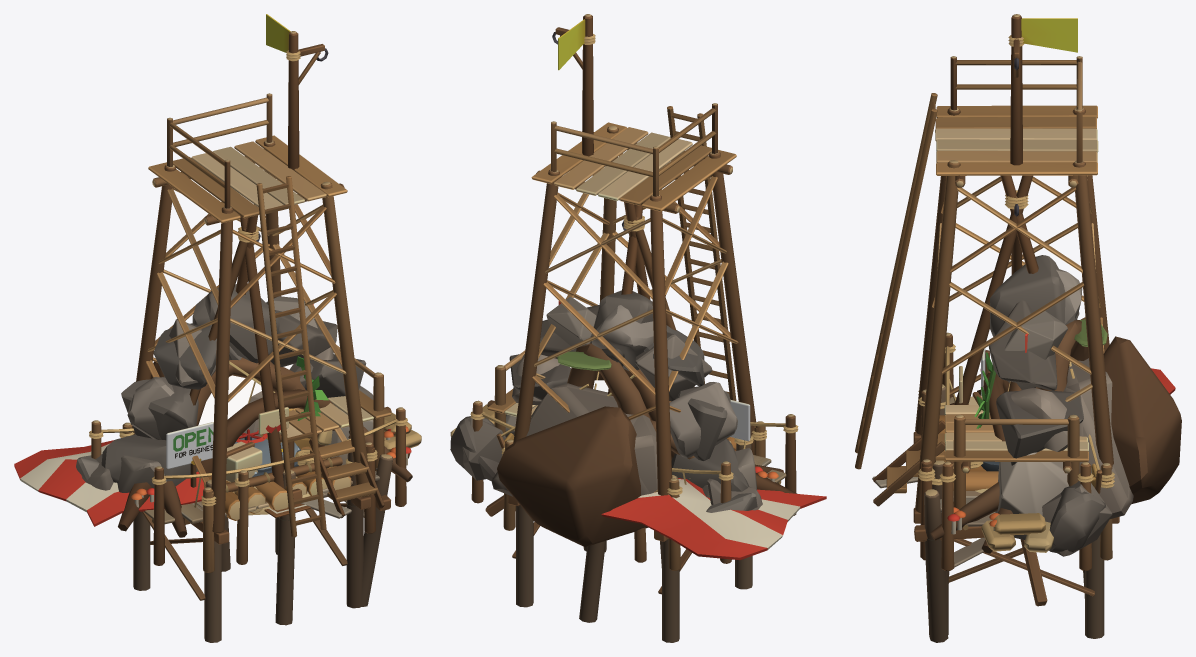
The model's file is traversal.glb.
3 views of the same model, side by side, from view 1: azimuth 30°, elevation 25°; view 2: azimuth 150°, elevation 25°; view 3: azimuth 270°, elevation 25° (orthographic). The views are drawn at different scales.
Parts seen in each view (by area): view 1: zip_tower__matte, portal_cave_dark__matte, zip_end__matte, dock_a__matte, portal_cave__matte, supply_gondola__matte, portal_roots__matte, raft__matte, bridge__matte, hatch__matte, dock_piles__matte, dock_broken__matte (+5 smaller); view 2: zip_tower__matte, portal_roots__matte, portal_cave__matte, portal_cave_dark__matte, supply_gondola__matte, dock_a__matte, zip_end__matte, bridge__matte, dock_piles__matte, boardwalk_b__matte, hatch__matte; view 3: zip_tower__matte, zip_end__matte, portal_roots__matte, portal_cave__matte, portal_cave_dark__matte, dock_broken__matte, dock_a__matte, bridge__matte, boardwalk_b__matte, raft__matte, supply_gondola__matte.
Boxes of the visible parts, bbox=[...] form: zip_tower__matte: bbox=[132, 14, 370, 537]; portal_cave_dark__matte: bbox=[81, 284, 373, 490]; zip_end__matte: bbox=[189, 215, 421, 518]; dock_a__matte: bbox=[133, 432, 376, 642]; portal_cave__matte: bbox=[76, 296, 373, 492]; supply_gondola__matte: bbox=[14, 361, 332, 526]; portal_roots__matte: bbox=[118, 357, 412, 537]; raft__matte: bbox=[204, 381, 351, 520]; bridge__matte: bbox=[89, 407, 407, 565]; hatch__matte: bbox=[166, 422, 310, 518]; dock_piles__matte: bbox=[221, 470, 302, 625]; dock_broken__matte: bbox=[181, 454, 393, 606]; zip_tower__matte: bbox=[513, 14, 756, 495]; portal_roots__matte: bbox=[497, 343, 797, 546]; portal_cave__matte: bbox=[462, 297, 757, 512]; portal_cave_dark__matte: bbox=[450, 290, 762, 510]; supply_gondola__matte: bbox=[496, 374, 826, 560]; dock_a__matte: bbox=[508, 425, 753, 642]; zip_end__matte: bbox=[450, 202, 694, 437]; bridge__matte: bbox=[470, 400, 798, 563]; dock_piles__matte: bbox=[579, 541, 661, 622]; boardwalk_b__matte: bbox=[501, 421, 771, 570]; hatch__matte: bbox=[730, 399, 750, 441]; zip_tower__matte: bbox=[855, 14, 1113, 512]; zip_end__matte: bbox=[873, 175, 1088, 552]; portal_roots__matte: bbox=[930, 319, 1181, 553]; portal_cave__matte: bbox=[974, 268, 1133, 556]; portal_cave_dark__matte: bbox=[976, 255, 1105, 552]; dock_broken__matte: bbox=[914, 489, 1047, 642]; dock_a__matte: bbox=[913, 384, 1119, 638]; bridge__matte: bbox=[939, 332, 1093, 570]; boardwalk_b__matte: bbox=[872, 391, 1114, 560]; raft__matte: bbox=[939, 392, 998, 490]; supply_gondola__matte: bbox=[980, 362, 1175, 493].
Size of the model in its own units: 7.28 by 11.18 by 5.46.
